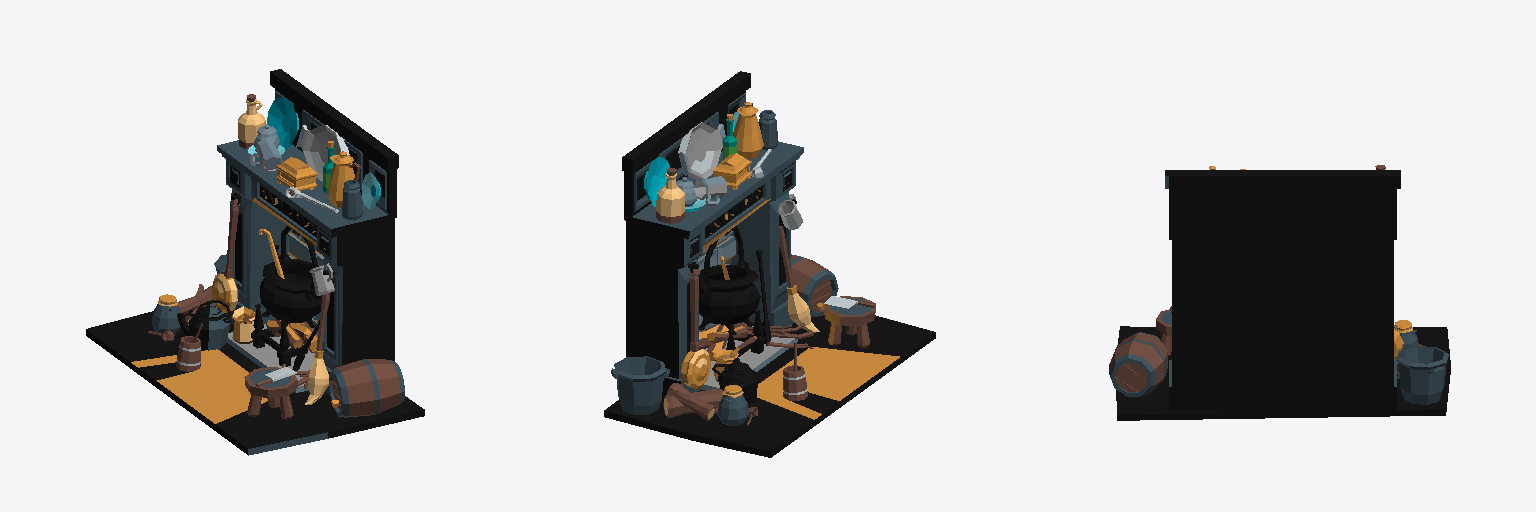
The picture shows the model from 3 angles: view 1: azimuth 30°, elevation 25°; view 2: azimuth 150°, elevation 25°; view 3: azimuth 270°, elevation 25°; orthographic projection.
Visible parts, largest first — view 1: group[number redacted], group[number redacted], group[number redacted], group[number redacted], group[number redacted], group[number redacted], group[number redacted], group[number redacted], group[number redacted], group[number redacted], group[number redacted], group[number redacted] (+11 smaller); view 2: group[number redacted], group[number redacted], group[number redacted], group[number redacted], group[number redacted], group[number redacted], group[number redacted], group[number redacted], group[number redacted], group[number redacted], group[number redacted], group[number redacted] (+10 smaller); view 3: group[number redacted], group[number redacted], group[number redacted], group[number redacted], group[number redacted].
Part boxes in pixels (left/top/right/bottom): group[number redacted]: left=86, top=311, right=424, bottom=455; group[number redacted]: left=217, top=69, right=398, bottom=324; group[number redacted]: left=227, top=201, right=396, bottom=394; group[number redacted]: left=329, top=359, right=404, bottom=417; group[number redacted]: left=260, top=259, right=321, bottom=322; group[number redacted]: left=244, top=367, right=297, bottom=419; group[number redacted]: left=177, top=300, right=230, bottom=350; group[number redacted]: left=296, top=125, right=349, bottom=181; group[number redacted]: left=212, top=193, right=240, bottom=313; group[number redacted]: left=305, top=293, right=329, bottom=404; group[number redacted]: left=267, top=97, right=298, bottom=148; group[number redacted]: left=327, top=151, right=360, bottom=207; group[number redacted]: left=622, top=71, right=783, bottom=400; group[number redacted]: left=604, top=315, right=935, bottom=457; group[number redacted]: left=702, top=141, right=803, bottom=390; group[number redacted]: left=699, top=265, right=760, bottom=324; group[number redacted]: left=611, top=356, right=669, bottom=414; group[number redacted]: left=678, top=122, right=725, bottom=178; group[number redacted]: left=791, top=254, right=838, bottom=317; group[number redacted]: left=824, top=296, right=875, bottom=347; group[number redacted]: left=681, top=262, right=710, bottom=389; group[number redacted]: left=663, top=383, right=722, bottom=420; group[number redacted]: left=733, top=102, right=763, bottom=158; group[number redacted]: left=656, top=168, right=684, bottom=223; group[number redacted]: left=1165, top=170, right=1400, bottom=413; group[number redacted]: left=1169, top=235, right=1209, bottom=411; group[number redacted]: left=1116, top=326, right=1450, bottom=420; group[number redacted]: left=1109, top=332, right=1167, bottom=396; group[number redacted]: left=1397, top=346, right=1448, bottom=404.
Bounding box in the file's own units: 1.11 × 1.48 × 1.88.